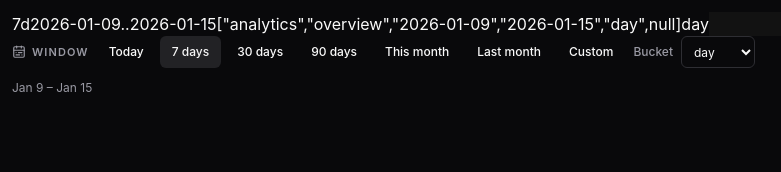
Test case: the window drives the URL and the query key › Last month resolves the key and the URL
Step 1. Click the button "Last month" → coordinates (509, 52), box top-left (465, 36), bottom-right (553, 68)
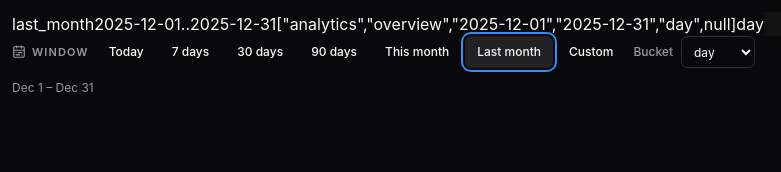
Expected: the text with test id "range" reads "2025-12-01..2025-12-31", top-left (94, 14), bottom-right (276, 34)
